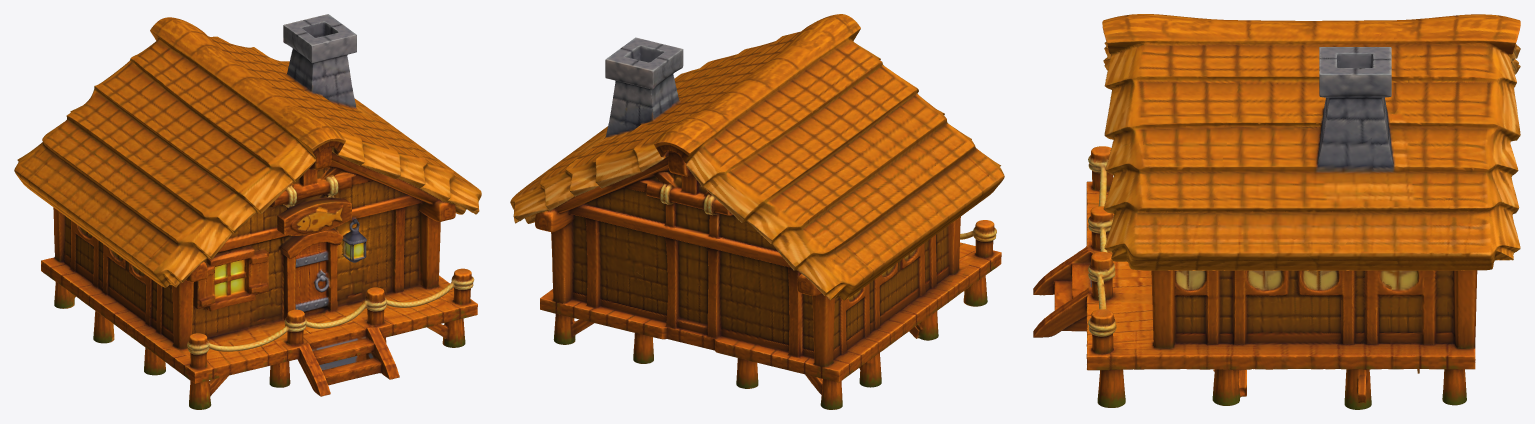
The model's file is pescaria.glb.
The picture shows the model from 3 angles, left to right: view 1: azimuth 30°, elevation 25°; view 2: azimuth 150°, elevation 25°; view 3: azimuth 270°, elevation 25°; orthographic projection. The views are drawn at different scales.
Size of the model in its own units: 1.87 by 1.4 by 1.9.
Materials: 1 (1 with a texture image).
